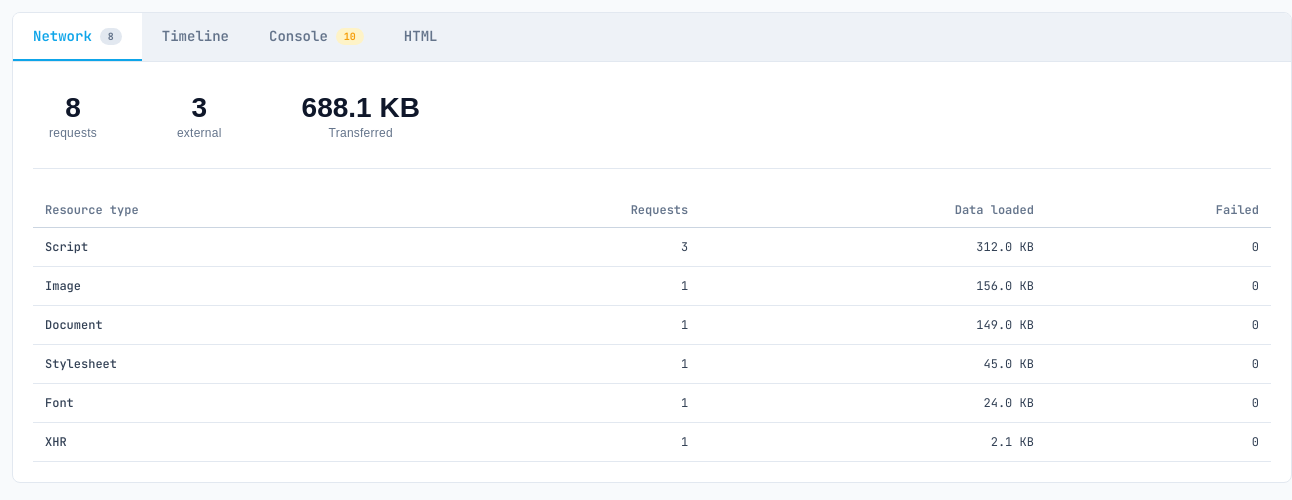
Test case: ResultTabs › switches to Console tab when clicked
Click the button "Console 10".
click(316, 37)  # box [249,13,384,61]
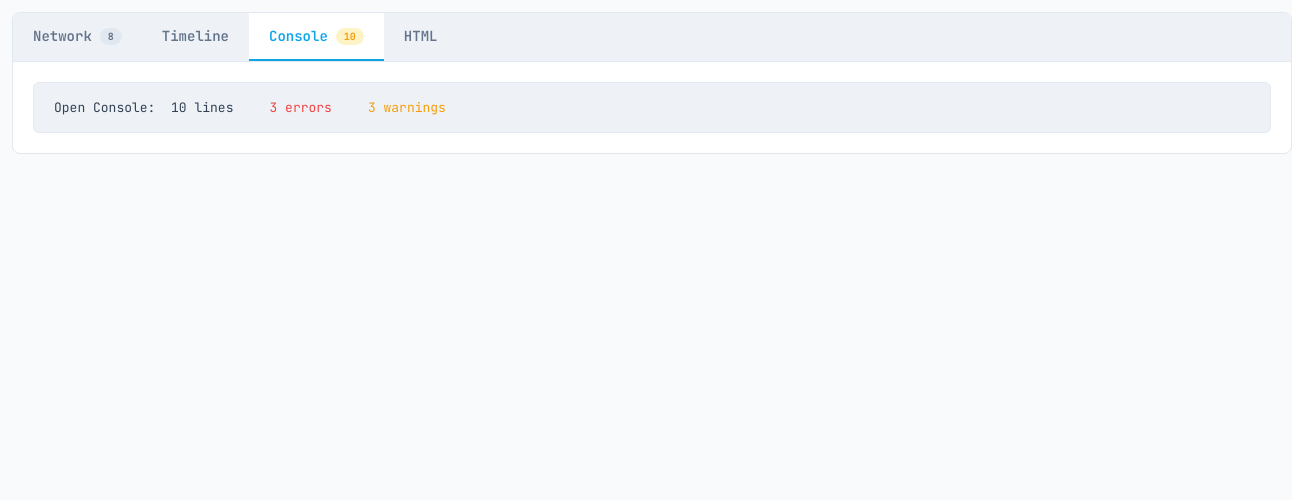
Expected: the text "Open Console: 10 lines" is shown, [54,99,234,116]
Expected: the text "3 errors" is shown, [270,99,332,116]
